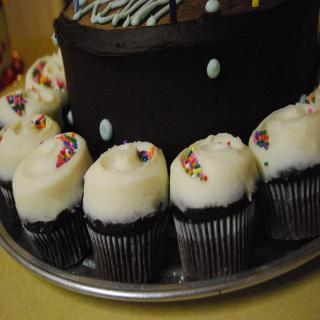Cake: (52, 0, 320, 161)
Muffin: (0, 32, 320, 282)
